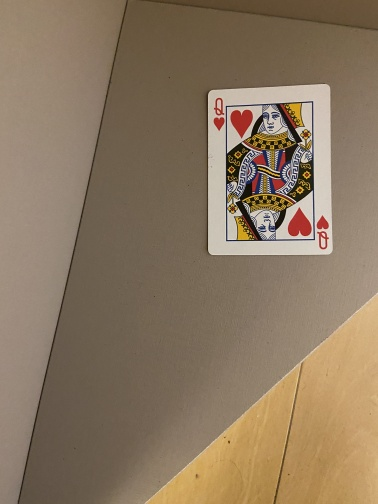queen: (206, 82, 334, 258)
